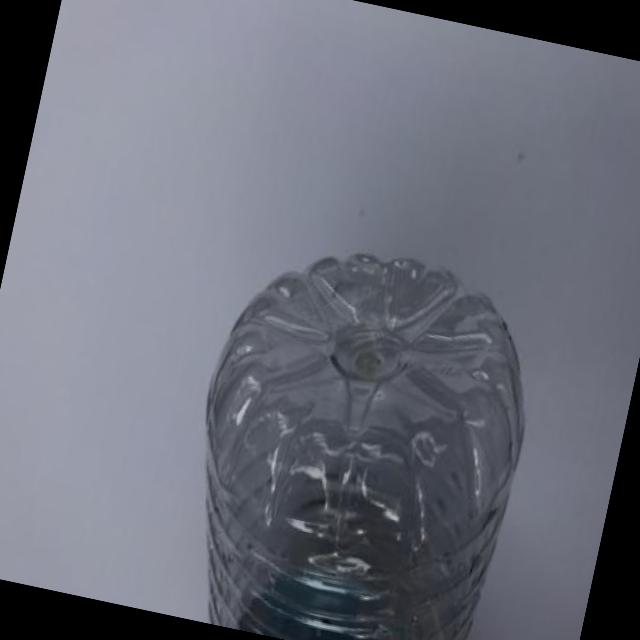Recycle: (161, 223, 555, 640)
